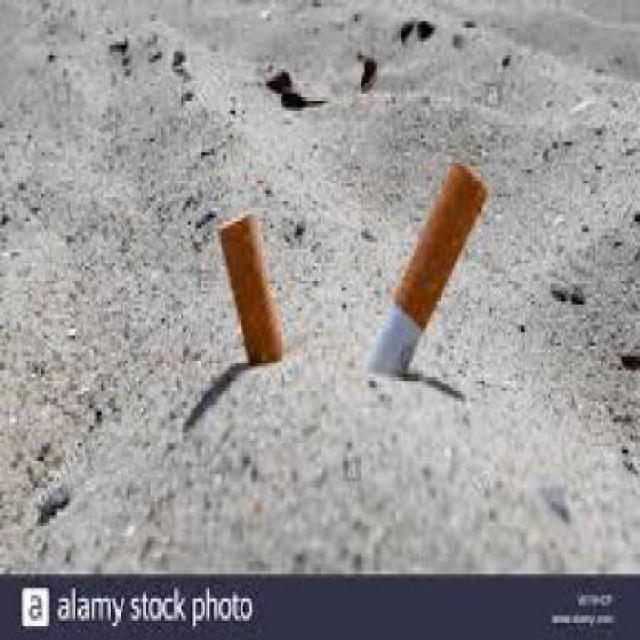cigarette: (360, 152, 494, 388), (192, 187, 302, 367)
